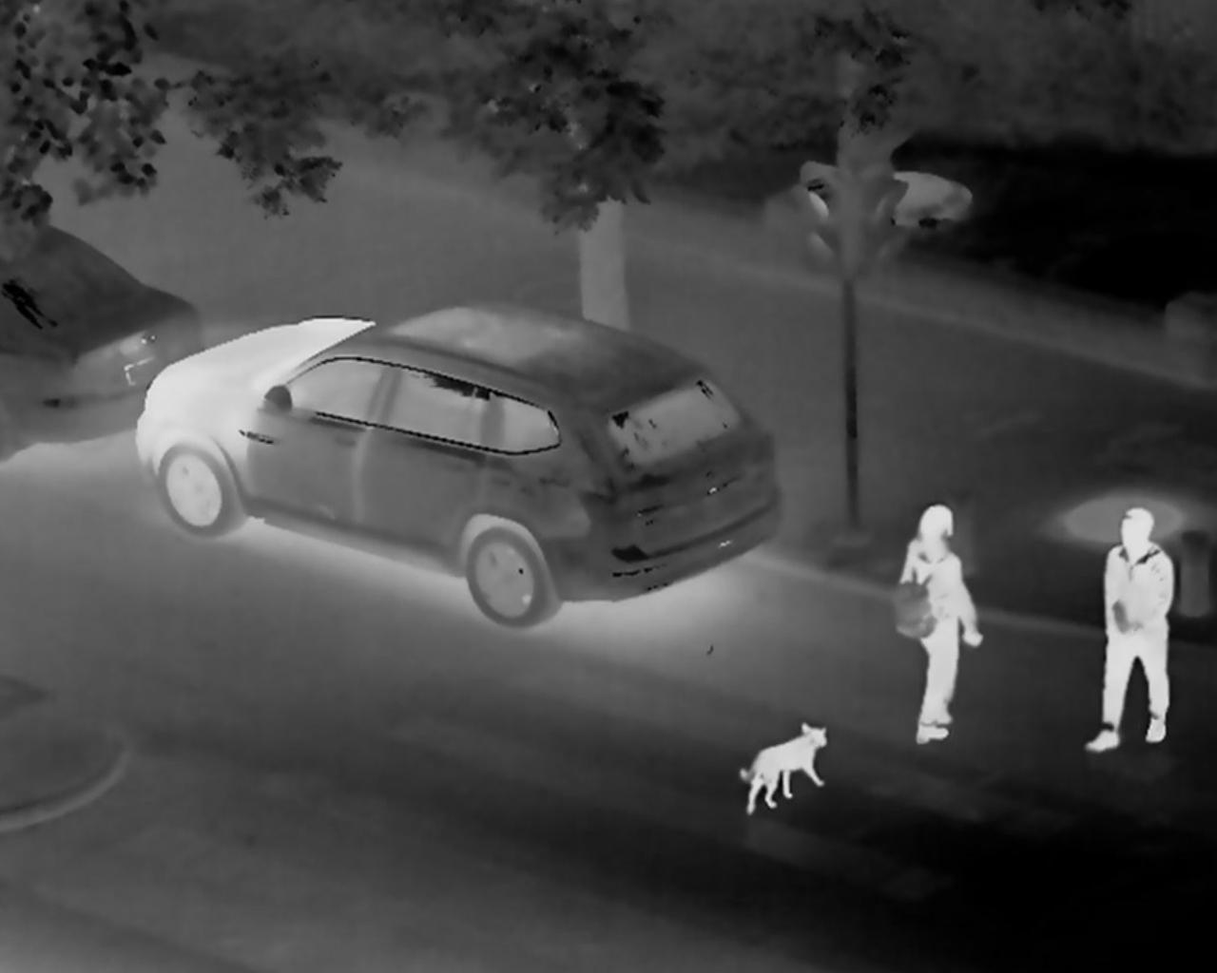person: (1082, 505, 1177, 751), (889, 500, 983, 742)
